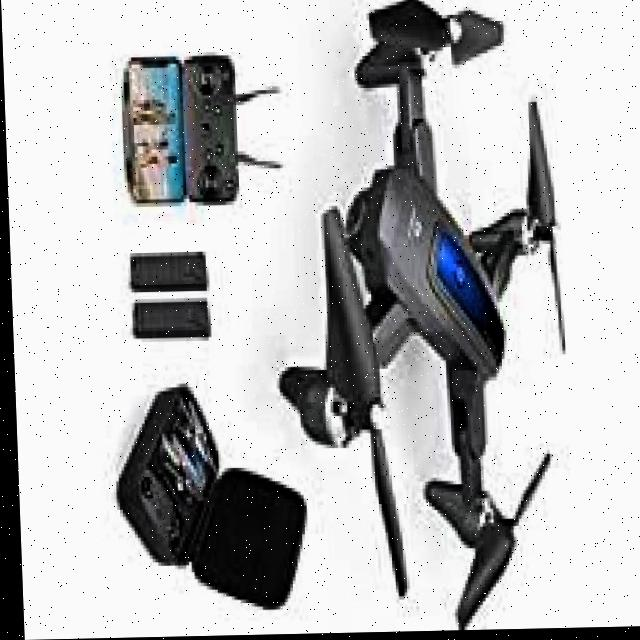drone: (249, 1, 600, 636)
